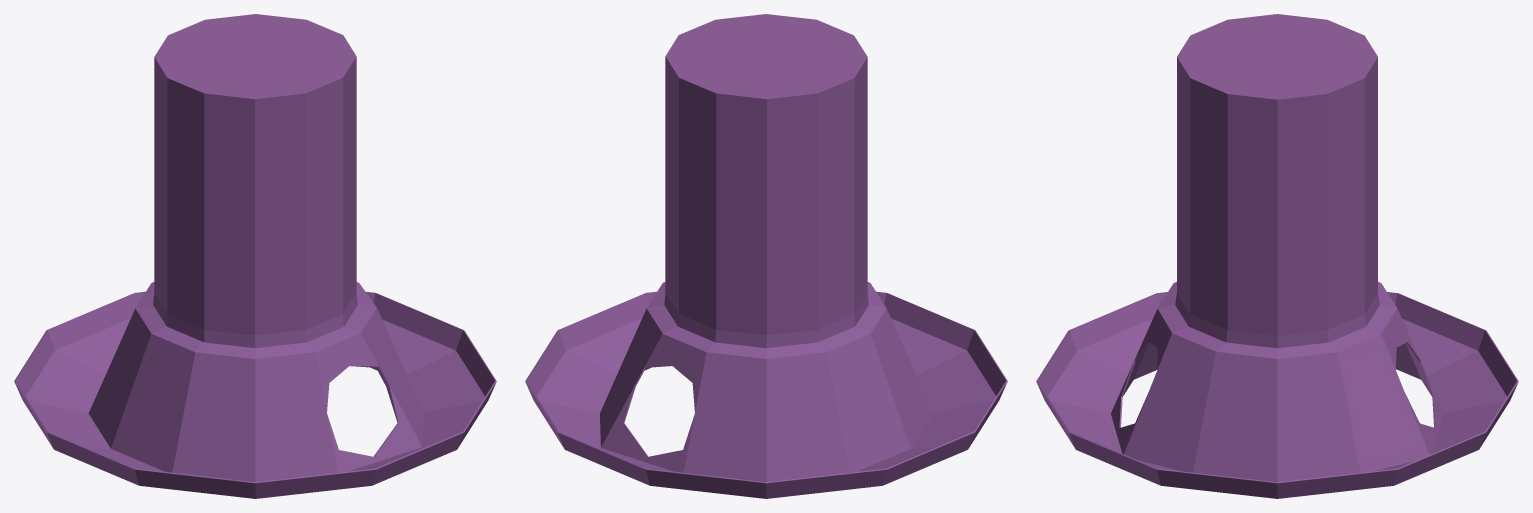
Rendered from Kettle-Brim_Hat.fbx.
3 renders of one model, left to right at view 1: azimuth 30°, elevation 25°; view 2: azimuth 150°, elevation 25°; view 3: azimuth 270°, elevation 25°, orthographic.
Visible parts, largest first — view 1: Kettle BrimHat; view 2: Kettle BrimHat; view 3: Kettle BrimHat.
Boxes of the visible parts, x1=… form: Kettle BrimHat: x1=14, y1=14, x2=496, y2=498; Kettle BrimHat: x1=525, y1=14, x2=1007, y2=498; Kettle BrimHat: x1=1036, y1=14, x2=1518, y2=498.
Bounding box in the file's own units: 337 × 276 × 338.
